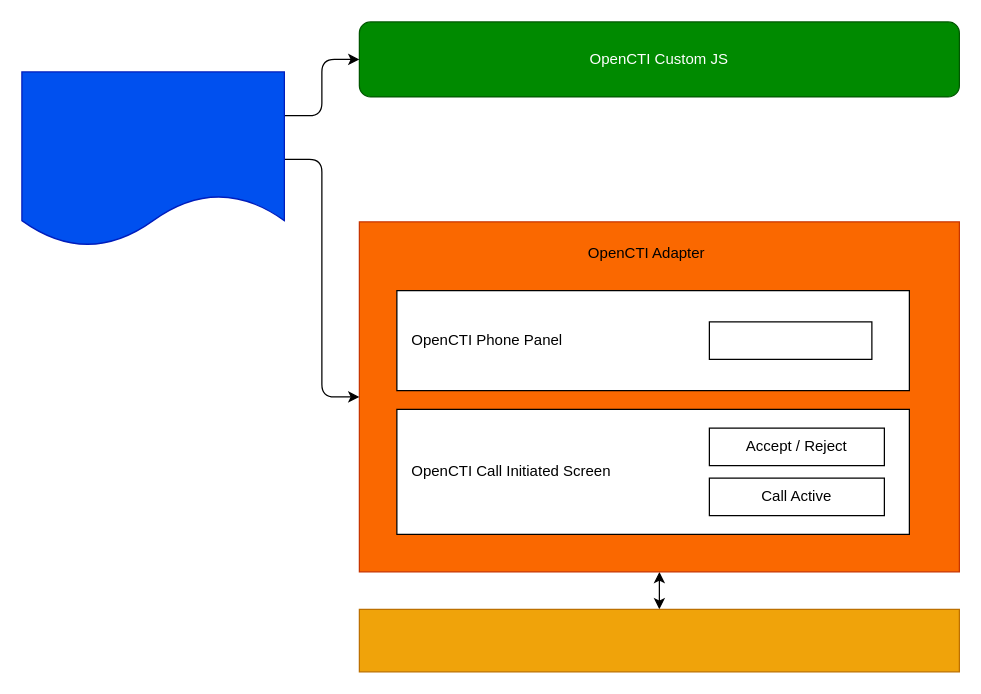
This 981x694 diagram has some shape labels left out. Each missing label, with the centre of its shape:
"OpenCTI Helper Apex" belongs at (658,640).
"OpenCTI Visualforce Page" belongs at (152,159).
"Search Component" belongs at (790,340).
